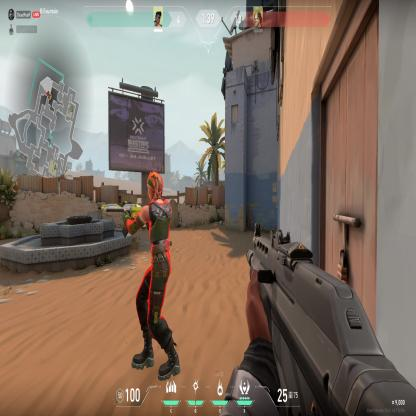enemy: (120, 166, 182, 381)
